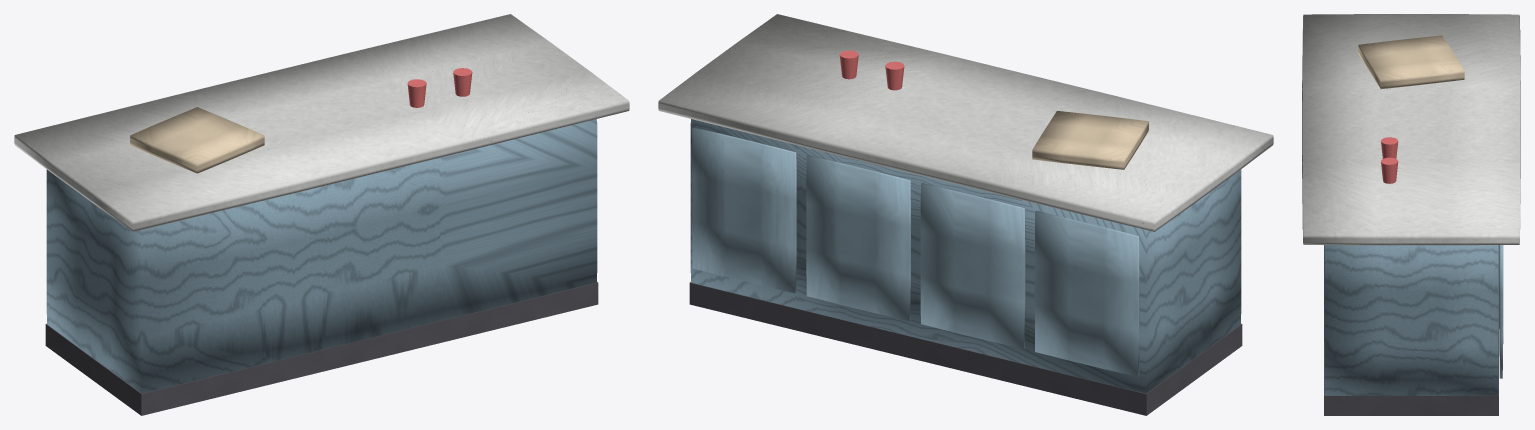
File: kitchen_island.glb
The picture shows the model from 3 angles, left to right: view 1: azimuth 30°, elevation 25°; view 2: azimuth 150°, elevation 25°; view 3: azimuth 270°, elevation 25°; orthographic projection. The views are drawn at different scales.
Parts seen in each view (by area): view 1: kitchen_island_body; view 2: kitchen_island_body; view 3: kitchen_island_body.
Part boxes in pixels (<box>): kitchen_island_body: <box>14,14,629,415</box>; kitchen_island_body: <box>658,14,1273,415</box>; kitchen_island_body: <box>1302,14,1520,415</box>.
Size of the model in its own units: 2.4 by 1.06 by 1.
6 materials, 6 textured.
